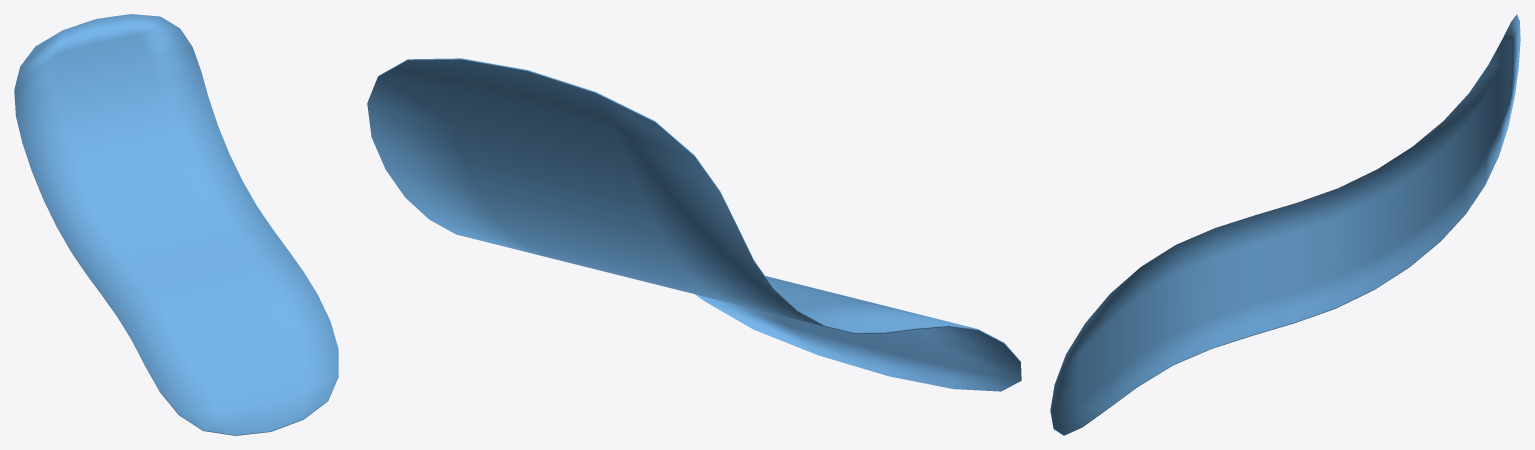
Rendered from Confetti_03.fbx.
3 views of the same model, side by side, from view 1: azimuth 30°, elevation 25°; view 2: azimuth 150°, elevation 25°; view 3: azimuth 270°, elevation 25° (orthographic). The views are drawn at different scales.
Visible parts, largest first — view 1: Confetti_03; view 2: Confetti_03; view 3: Confetti_03.
Boxes of the visible parts, box(x1,y1,x2,y2) form: Confetti_03: box(14, 14, 338, 435); Confetti_03: box(367, 58, 1021, 391); Confetti_03: box(1050, 14, 1520, 435).
Bounding box in the file's own units: 10.57 × 15.25 × 17.38.
